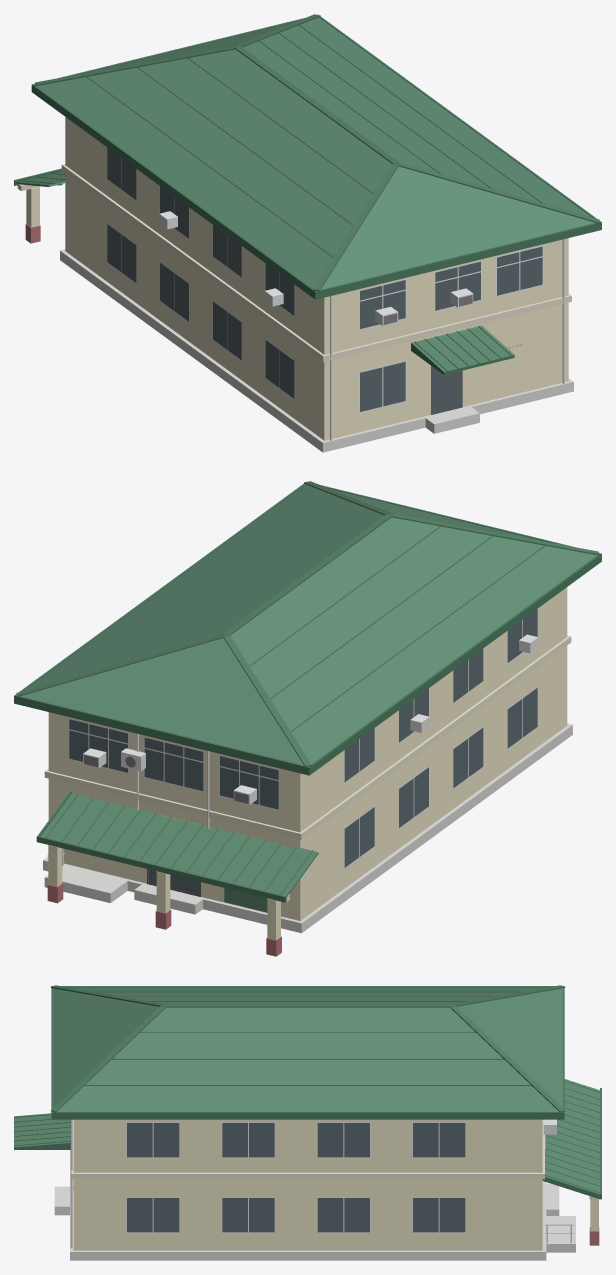
The model's file is admin_building.glb.
3 renders of one model, top to bottom at view 1: azimuth 30°, elevation 25°; view 2: azimuth 150°, elevation 25°; view 3: azimuth 270°, elevation 25°, orthographic. The views are drawn at different scales.
Visible parts, largest first — view 1: Mesh_Mat_Admin_RoofGreen, Mesh_Mat_Admin_WallYellow, Mesh_Mat_Admin_Glass, Mesh_Mat_Admin_FasciaGreen, Mesh_Mat_Admin_RoofCap, Mesh_Mat_Admin_BasePlinth, Mesh_Mat_Admin_BeltCourse, Mesh_Mat_Admin_FrameWhite, Mesh_Mat_Admin_ACCase, Mesh_Mat_Admin_Downspout; view 2: Mesh_Mat_Admin_RoofGreen, Mesh_Mat_Admin_WallYellow, Mesh_Mat_Admin_Glass, Mesh_Mat_Admin_FasciaGreen, Mesh_Mat_Admin_BasePlinth, Mesh_Mat_Admin_RoofCap, Mesh_Mat_Admin_BeltCourse, Mesh_Mat_Admin_FrameWhite, Mesh_Mat_Admin_ACCase, Mesh_Mat_Admin_CanopyRib, Mesh_Mat_Admin_Maroon; view 3: Mesh_Mat_Admin_RoofGreen, Mesh_Mat_Admin_WallYellow, Mesh_Mat_Admin_Glass, Mesh_Mat_Admin_BasePlinth, Mesh_Mat_Admin_RoofCap, Mesh_Mat_Admin_FasciaGreen, Mesh_Mat_Admin_BeltCourse, Mesh_Mat_Admin_FrameWhite, Mesh_Mat_Admin_CanopyRib, Mesh_Mat_Admin_Downspout.
Part boxes in pixels (box(x1,y1,x2,y2)): Mesh_Mat_Admin_RoofGreen: box(16, 17, 595, 374); Mesh_Mat_Admin_WallYellow: box(26, 117, 568, 440); Mesh_Mat_Admin_Glass: box(107, 148, 542, 413); Mesh_Mat_Admin_FasciaGreen: box(14, 14, 601, 371); Mesh_Mat_Admin_RoofCap: box(34, 14, 599, 291); Mesh_Mat_Admin_BasePlinth: box(60, 249, 573, 452); Mesh_Mat_Admin_BeltCourse: box(17, 164, 571, 362); Mesh_Mat_Admin_FrameWhite: box(107, 147, 543, 413); Mesh_Mat_Admin_ACCase: box(159, 211, 473, 325); Mesh_Mat_Admin_Downspout: box(330, 239, 564, 440); Mesh_Mat_Admin_RoofGreen: box(21, 484, 596, 912); Mesh_Mat_Admin_WallYellow: box(48, 587, 567, 940); Mesh_Mat_Admin_Glass: box(69, 609, 537, 895); Mesh_Mat_Admin_FasciaGreen: box(14, 481, 601, 902); Mesh_Mat_Admin_BasePlinth: box(43, 723, 572, 933); Mesh_Mat_Admin_RoofCap: box(16, 481, 599, 767); Mesh_Mat_Admin_BeltCourse: box(44, 635, 571, 902); Mesh_Mat_Admin_FrameWhite: box(68, 608, 538, 869); Mesh_Mat_Admin_ACCase: box(83, 634, 538, 804); Mesh_Mat_Admin_CanopyRib: box(46, 794, 313, 894); Mesh_Mat_Admin_Maroon: box(47, 883, 281, 956); Mesh_Mat_Admin_RoofGreen: box(14, 987, 599, 1193); Mesh_Mat_Admin_WallYellow: box(73, 1119, 598, 1250); Mesh_Mat_Admin_Glass: box(127, 1123, 465, 1232); Mesh_Mat_Admin_BasePlinth: box(54, 1150, 575, 1260); Mesh_Mat_Admin_RoofCap: box(51, 985, 565, 1112); Mesh_Mat_Admin_FasciaGreen: box(14, 986, 601, 1199); Mesh_Mat_Admin_BeltCourse: box(71, 1119, 597, 1200); Mesh_Mat_Admin_FrameWhite: box(126, 1122, 466, 1233); Mesh_Mat_Admin_CanopyRib: box(545, 1081, 599, 1192); Mesh_Mat_Admin_Downspout: box(70, 1119, 545, 1248).
Bounding box in the file's own units: 12.57 × 9.26 × 24.67.
